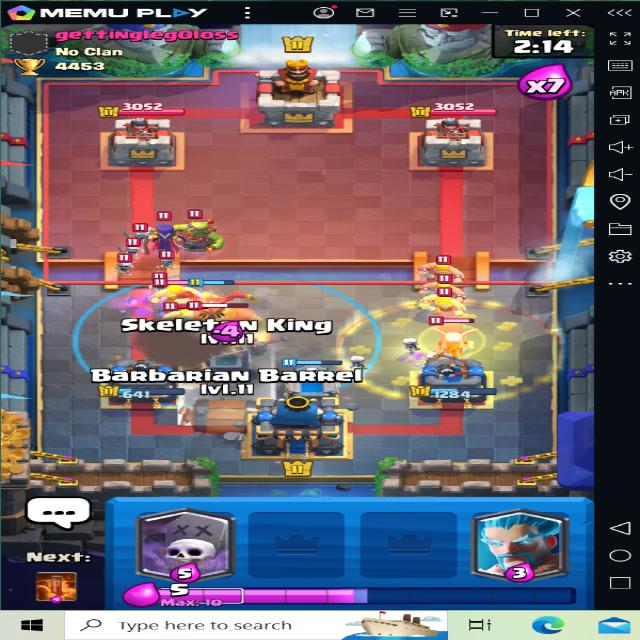barbarian: (149, 280, 208, 306), (416, 249, 466, 277), (419, 286, 465, 316), (162, 298, 207, 328), (419, 273, 472, 296)
battle-healer: (419, 312, 488, 360)
giant: (174, 298, 262, 352)
goblin-demolisher: (168, 211, 233, 255)
skeleton: (122, 235, 149, 255), (117, 258, 139, 276), (146, 280, 168, 298), (130, 225, 152, 243), (157, 253, 182, 267)
witch: (136, 215, 192, 256)
